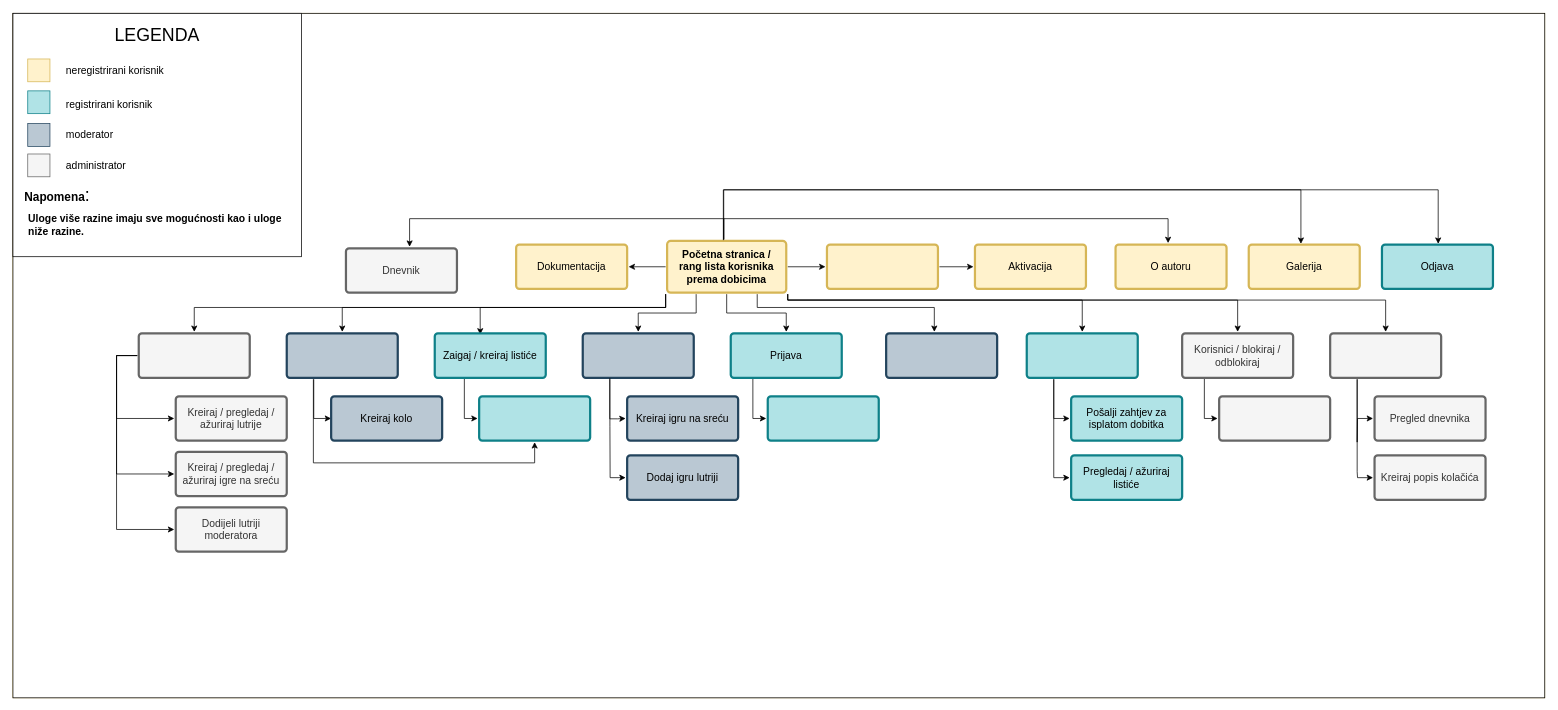
This 1558x710 diagram has some shape labels left out. Here are the shapes that lost their labels. From the top down, the centre of each, then its label:
At point 882,266: "Registracija".
At point 193,355: "Lutrije".
At point 341,355: "Kola / ažuriraj kolo / otvori kolo / zatvori kolo".
At point 637,355: "Igre na sreću / ažuriraj igru".
At point 941,355: "Zahtjevi za isplatu / potvrda zahtjeva".
At point 1081,355: "Moji listići".
At point 1385,355: "Konfiguracija / podesi aplikaciju".
At point 534,418: "Generator slučajnih brojeva".
At point 822,418: "Blokiran korisnik".
At point 1274,418: "Popis blokiranih korisnika".
